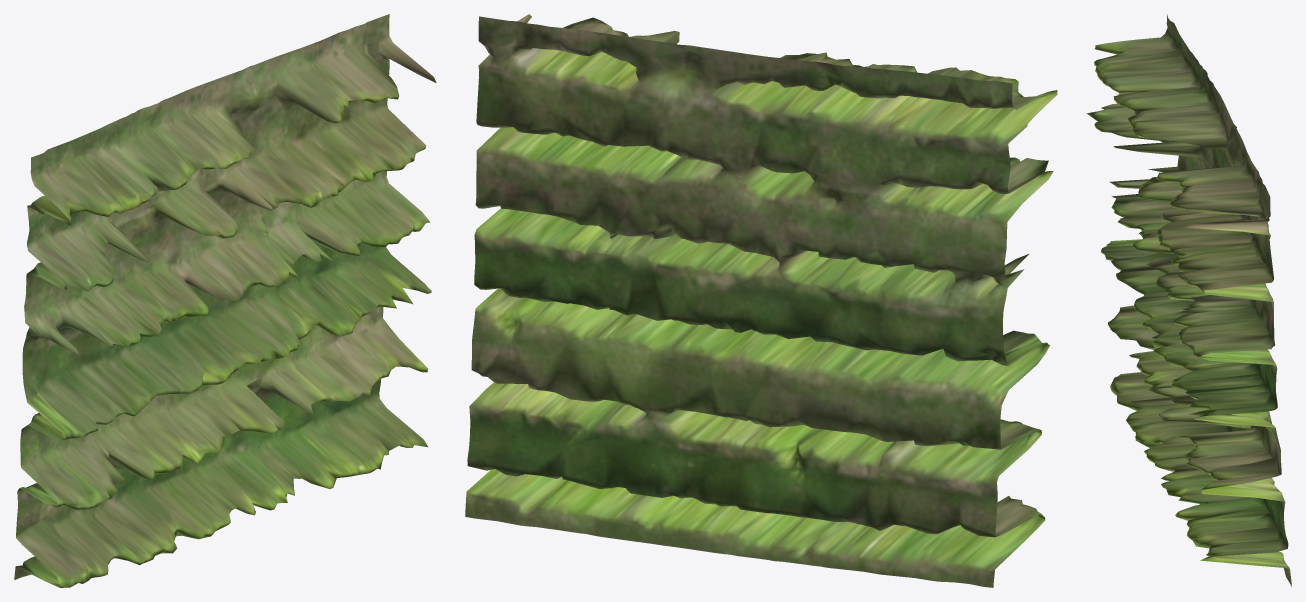
File: map_190_20.obj
3 renders of one model, left to right at view 1: azimuth 30°, elevation 25°; view 2: azimuth 150°, elevation 25°; view 3: azimuth 270°, elevation 25°, orthographic. The views are drawn at different scales.
Visible parts, largest first — view 1: map_190_20.obj; view 2: map_190_20.obj; view 3: map_190_20.obj.
Boxes of the visible parts, bbox=[...] form: map_190_20.obj: bbox=[14, 14, 436, 587]; map_190_20.obj: bbox=[465, 14, 1057, 587]; map_190_20.obj: bbox=[1086, 14, 1291, 586].
Size of the model in its own units: 10 by 10 by 4.75.
Materials: 1 (1 with a texture image).
